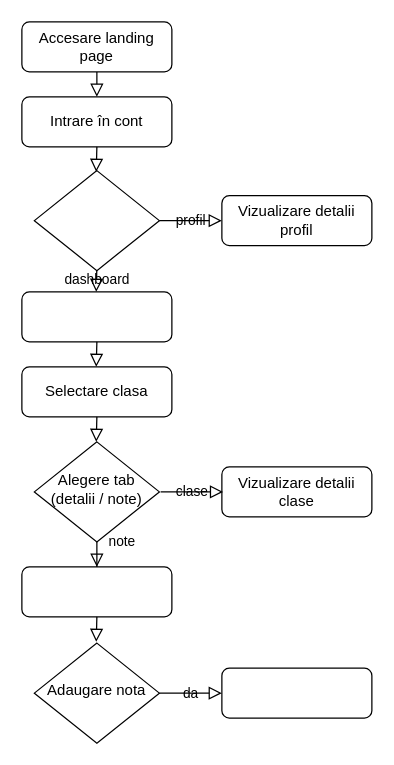
Some shapes in this 394 by 765 pixel diagram are drawn without their labels. Here are the shapes that lost their labels. From the top down, the centre of each, then its label:
At (x=96, y=220): "Alegere (dashboard / profil)".
At (x=96, y=316): "Accesare dashboard".
At (x=96, y=591): "Vizualizare note elevi".
At (x=296, y=692): "Vizualizare lista note actualizate".
